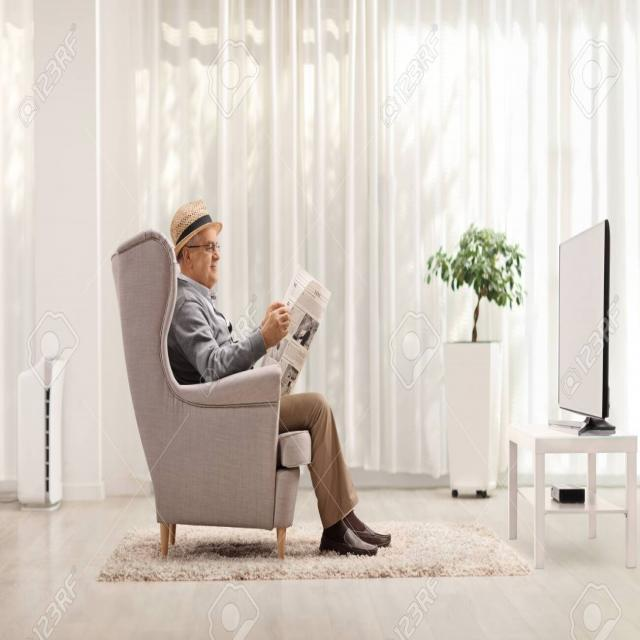sitting: (164, 182, 389, 556)
